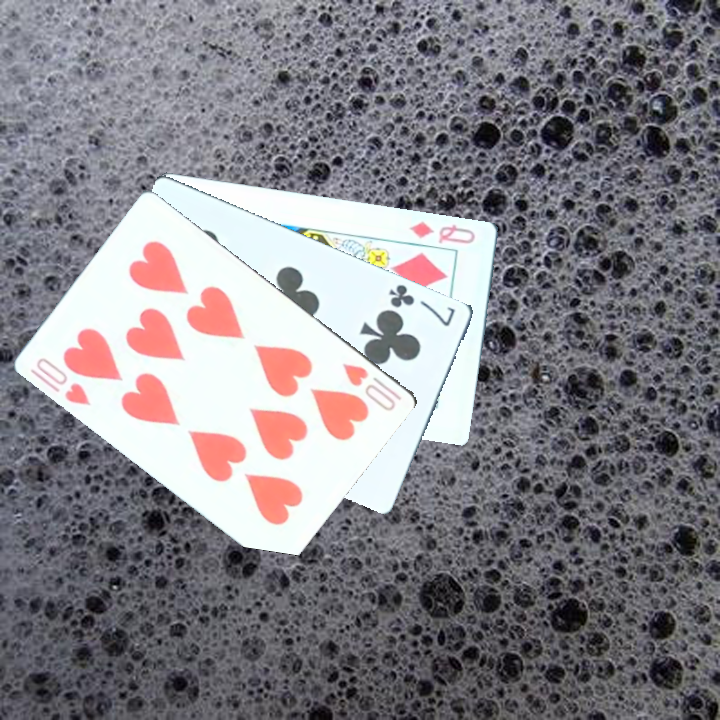10h: (31, 353, 93, 409), (338, 359, 399, 414)
7c: (384, 280, 458, 329)
Qd: (403, 217, 478, 260)
